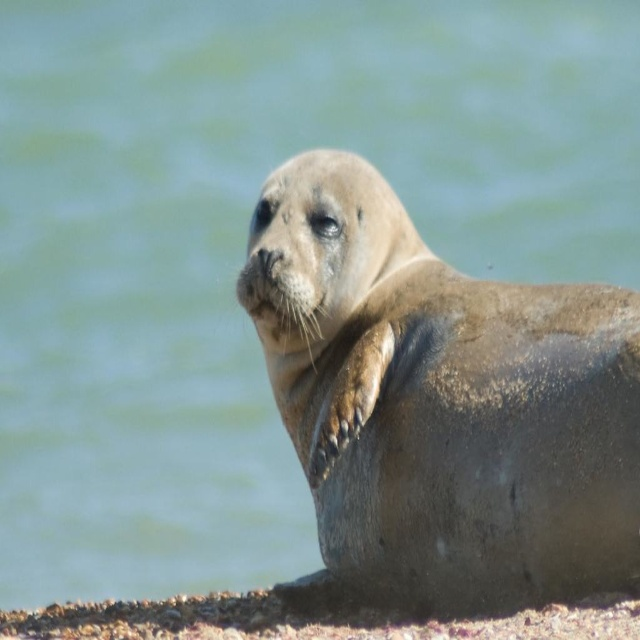Harbor seal: (240, 145, 640, 611)
